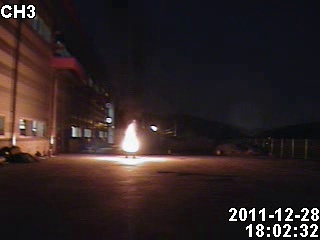fire: (119, 116, 146, 154)
